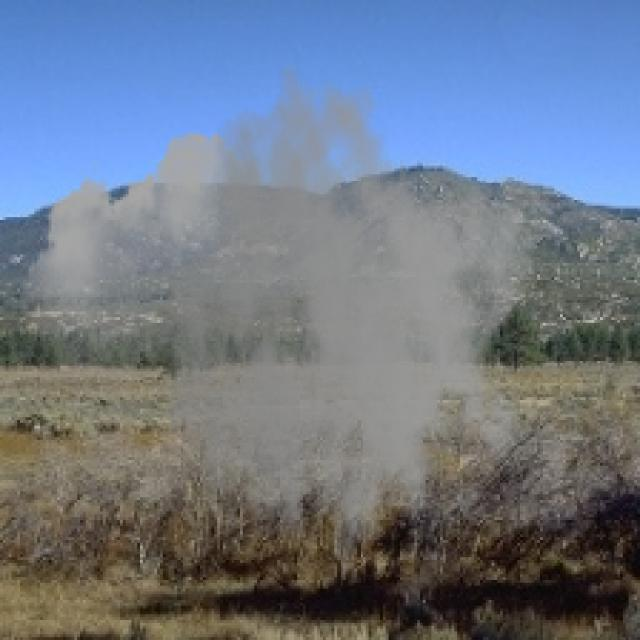Smoke: (20, 63, 537, 606)
